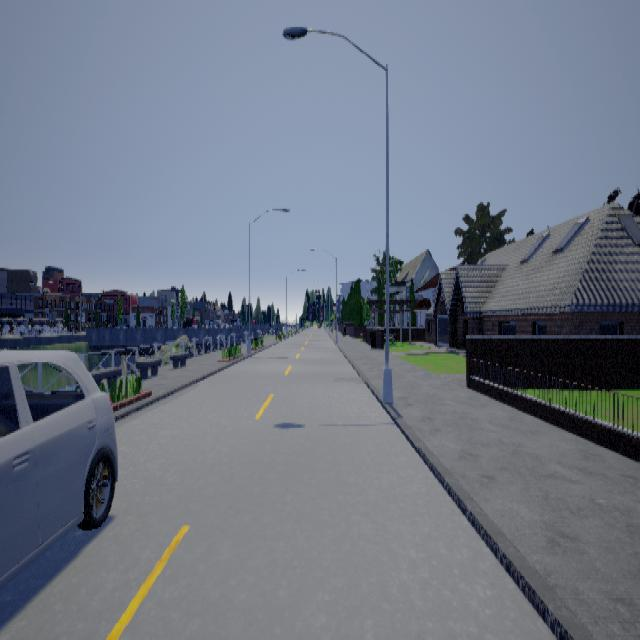vehicle: (0, 348, 117, 588)
